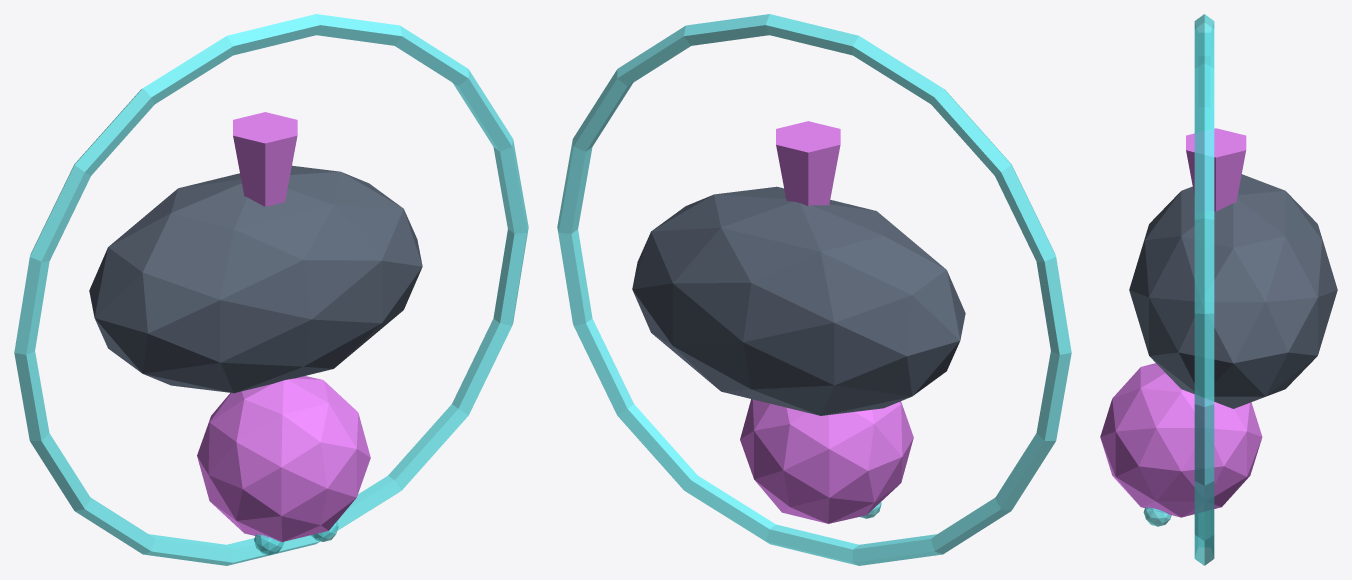
Rendered from 08_pet_companion_proc.glb.
3 views of the same model, side by side, from view 1: azimuth 30°, elevation 25°; view 2: azimuth 150°, elevation 25°; view 3: azimuth 270°, elevation 25° (orthographic). The views are drawn at different scales.
Parts seen in each view (by area): view 1: pet_body, bonus_proc_ring, pet_head, tail_or_antenna; view 2: pet_body, bonus_proc_ring, pet_head, tail_or_antenna; view 3: pet_body, pet_head, bonus_proc_ring, tail_or_antenna, pet_eye_r.
Boxes of the visible parts, bbox=[...] form: pet_body: bbox=[89, 165, 422, 393]; bonus_proc_ring: bbox=[14, 14, 528, 565]; pet_head: bbox=[197, 376, 370, 541]; tail_or_antenna: bbox=[233, 112, 297, 206]; pet_body: bbox=[632, 186, 965, 415]; bonus_proc_ring: bbox=[557, 14, 1071, 565]; pet_head: bbox=[740, 399, 913, 523]; tail_or_antenna: bbox=[776, 121, 840, 206]; pet_body: bbox=[1129, 174, 1337, 408]; pet_head: bbox=[1100, 363, 1262, 517]; bonus_proc_ring: bbox=[1194, 14, 1214, 565]; tail_or_antenna: bbox=[1186, 128, 1246, 211]; pet_eye_r: bbox=[1143, 507, 1171, 526].
Size of the model in its own units: 0.956 by 0.9415 by 0.41.
